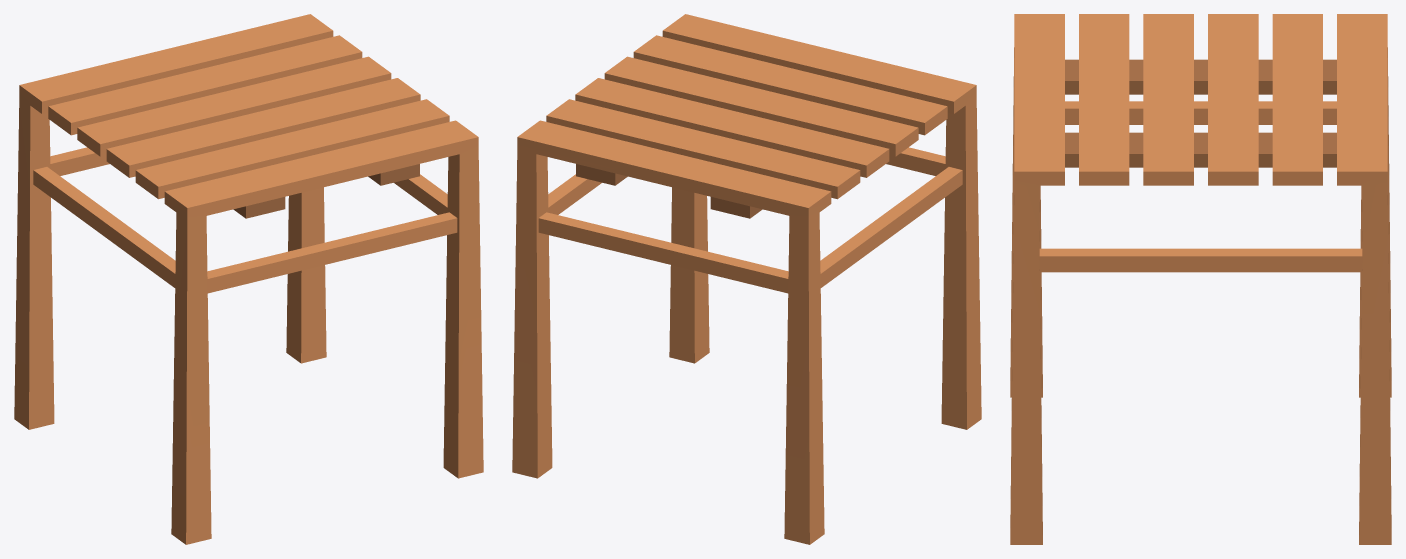
File: structureBase.dae
3 views of the same model, side by side, from view 1: azimuth 30°, elevation 25°; view 2: azimuth 150°, elevation 25°; view 3: azimuth 270°, elevation 25° (orthographic). The views are drawn at different scales.
Visible parts, largest first — view 1: structureBase; view 2: structureBase; view 3: structureBase.
Boxes of the visible parts, x1,y1,x2,y2 form: structureBase: [14, 14, 483, 544]; structureBase: [512, 14, 981, 544]; structureBase: [1010, 14, 1391, 544].
Size of the model in its own units: 2 by 2.15 by 2.
